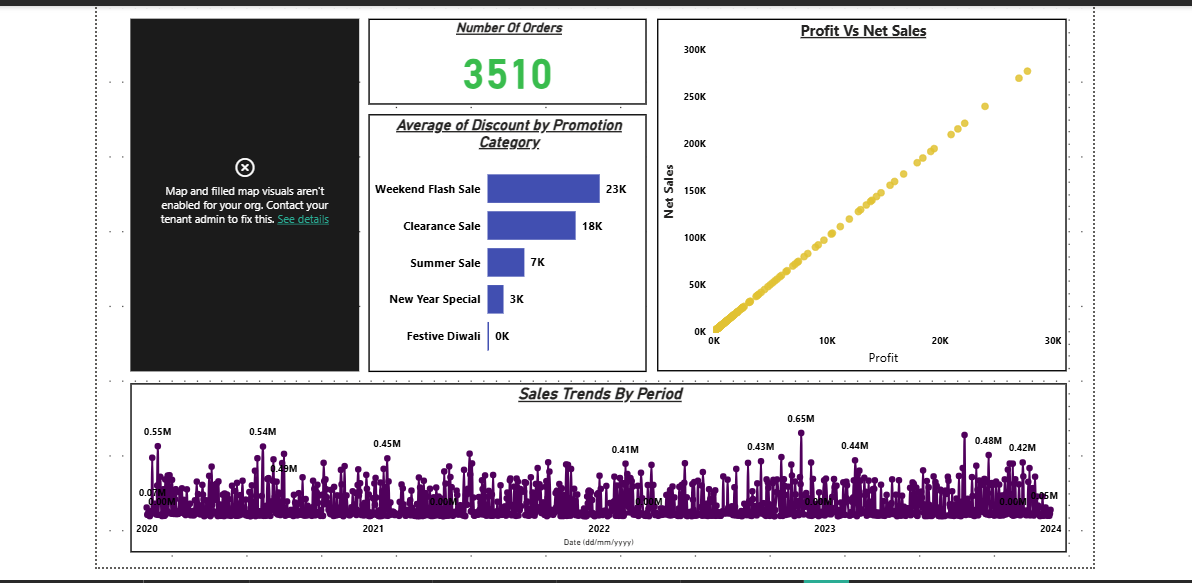

The page's visual inventory and layout, read from the dashboard file:
{"tool":"powerbi","page":{"name":"Overview","canvas":[1280,720],"ordinal":0},"visuals":[{"type":"lineChart","title":"Sales Trends By Period","fields":{"Y":["Sum(Fact Table.Net Sales     )"],"Category":["Fact Table.Date (dd/mm/yyyy).Variation.Date Hierarchy.Year"]},"box":[42.5,484.1,1202.8,217.1],"z":0},{"type":"scatterChart","title":"Profit Vs Net Sales     ","fields":{"Y":["Fact Table.Net Sales     "],"X":["Fact Table.Profit"]},"box":[718.6,16.7,526.4,452.9],"z":1000},{"type":"barChart","title":"Average of Discount by Promotion  Category","fields":{"Y":["Avg(Fact Table.Discount)"],"Category":["Dim Promotion.Promotion Name"]},"box":[349.3,138.7,357.6,330.9],"z":2000},{"type":"map","title":"Sales By City","fields":{"Category":["Dim Customers.City"],"Size":["Sum(Fact Table.Net Sales     )"]},"box":[43.4,16.7,294.1,452.9],"z":3000},{"type":"card","title":"Number Of Orders","fields":{"Values":["Count(Fact Table.Order ID)"]},"box":[349.3,16.7,357.6,110.3],"z":4000}]}

Visuals, with their boxes on the page's 1280x720 design canvas (x1, y1, x2, y2). These are canvas units, not pixel positions in the 1192x583 screenshot, which may show the page scaled, cropped or inside an application window:
"Sales Trends By Period" lineChart: l=42, t=484, r=1245, b=701
"Profit Vs Net Sales     " scatterChart: l=719, t=17, r=1245, b=470
"Average of Discount by Promotion  Category" barChart: l=349, t=139, r=707, b=470
"Sales By City" map: l=43, t=17, r=338, b=470
"Number Of Orders" card: l=349, t=17, r=707, b=127
